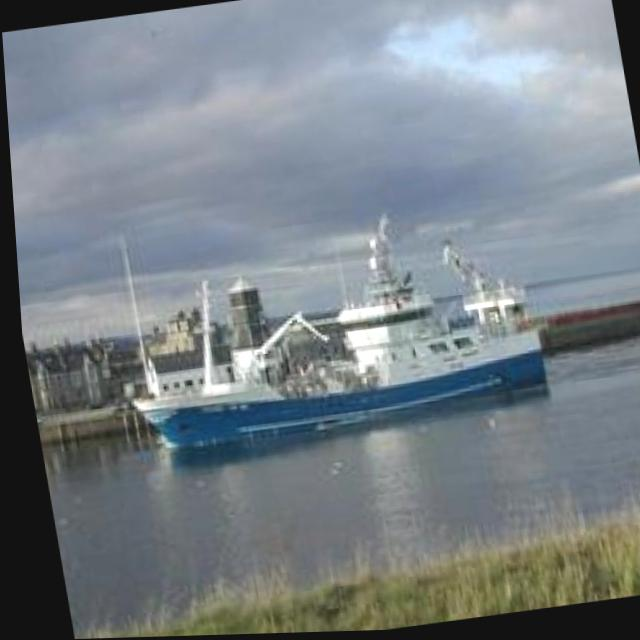ship2: (109, 213, 544, 450)
